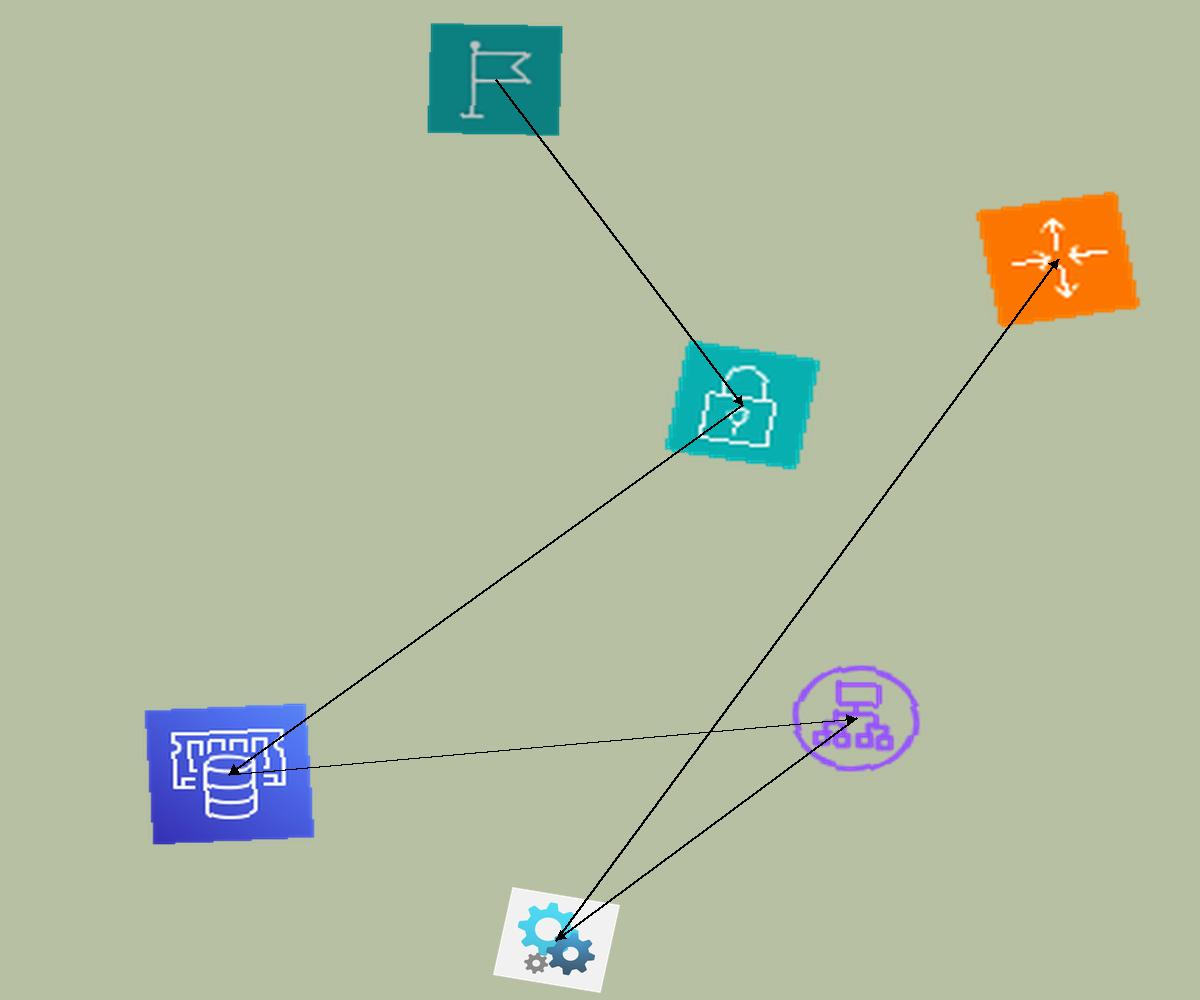AWS-ElastiCache: (143, 702, 316, 846)
AWS-Private-subnet: (662, 338, 823, 472)
AWS-Region: (426, 22, 564, 137)
AWS-Res_Elastic-Load-Balancing_Application-Load-Balancer: (781, 656, 931, 781)
AWS-Scaling-group: (973, 189, 1143, 330)
Azure_api: (493, 887, 620, 993)
